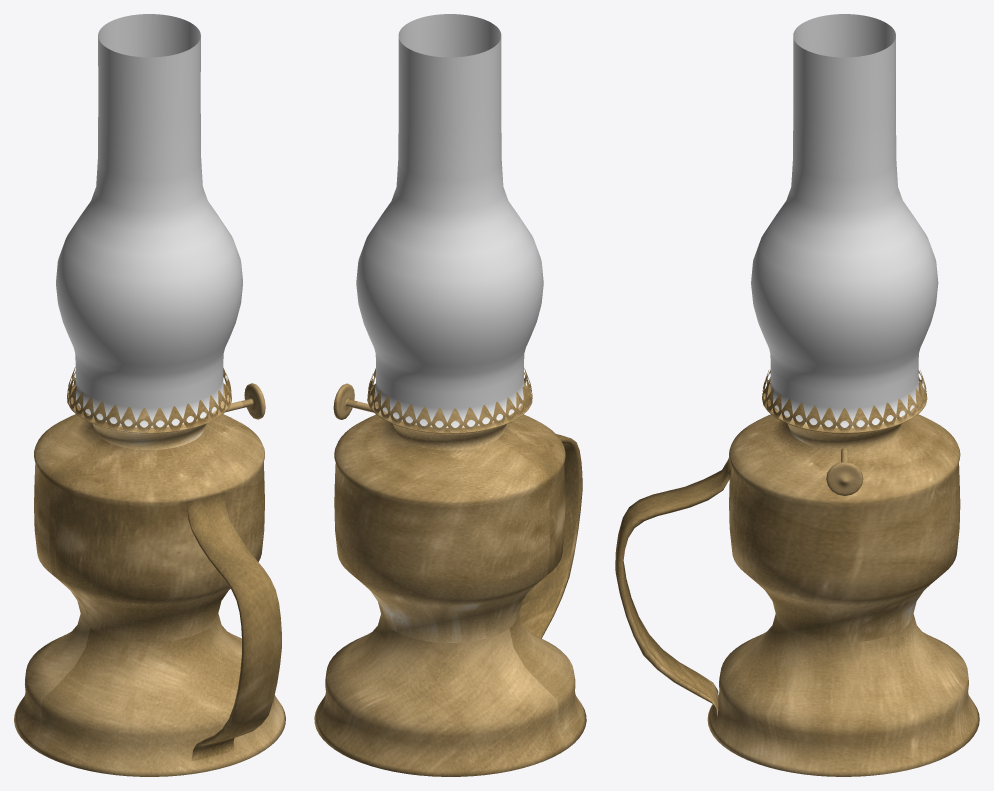
The model's file is lamp.fbx.
The picture shows the model from 3 angles, left to right: view 1: azimuth 30°, elevation 25°; view 2: azimuth 150°, elevation 25°; view 3: azimuth 270°, elevation 25°; orthographic projection.
Parts seen in each view (by area): view 1: Lamp; view 2: Lamp; view 3: Lamp.
Part boxes in pixels (x1,y1,x2,y2): Lamp: (14,14,285,776); Lamp: (314,14,586,776); Lamp: (615,14,979,776).
Bounding box in the file's own units: 8.64 × 11.58 × 24.03.
